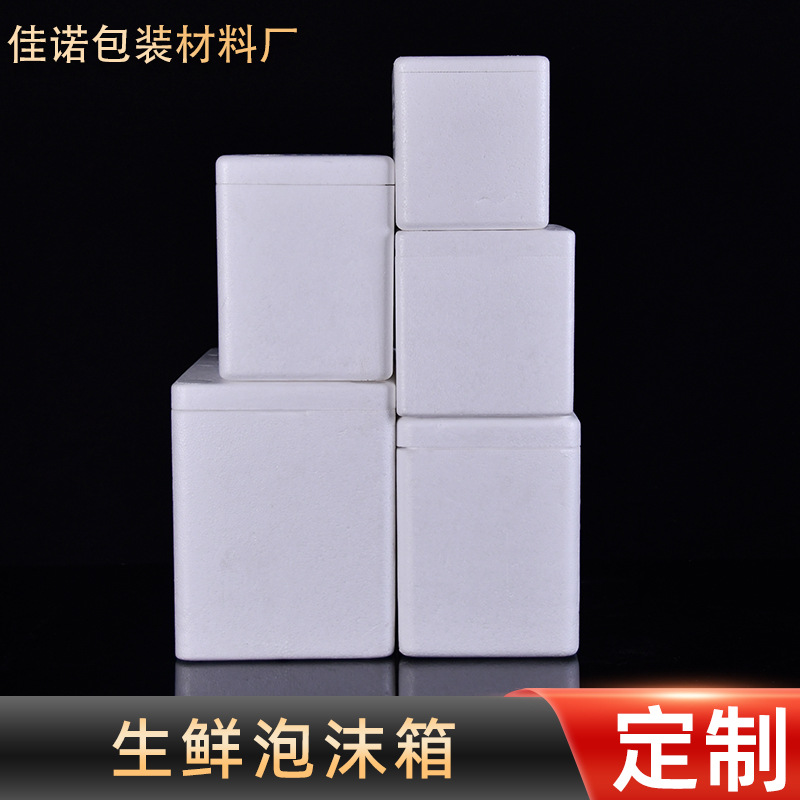泡沫箱: (171, 59, 579, 660)
